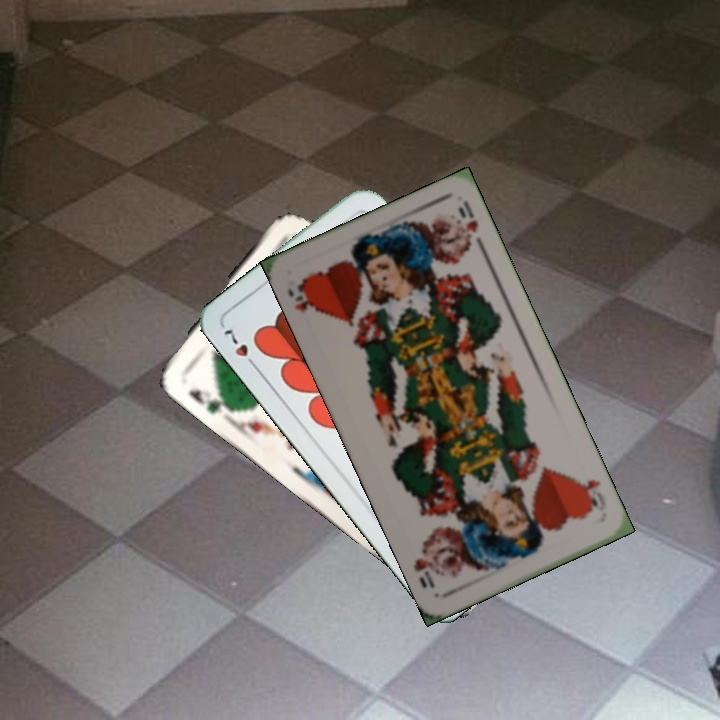GK: (185, 385, 231, 416)
H7: (219, 325, 261, 373)
HO: (283, 275, 320, 315), (573, 475, 604, 514)
